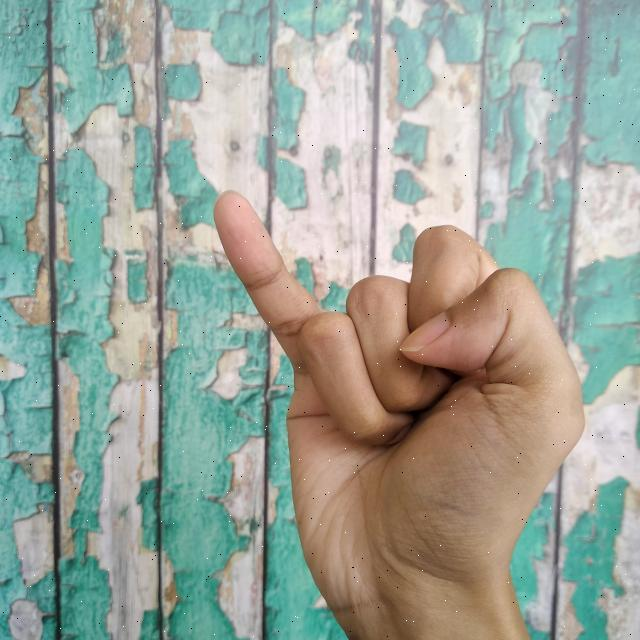I: (210, 183, 592, 640)
